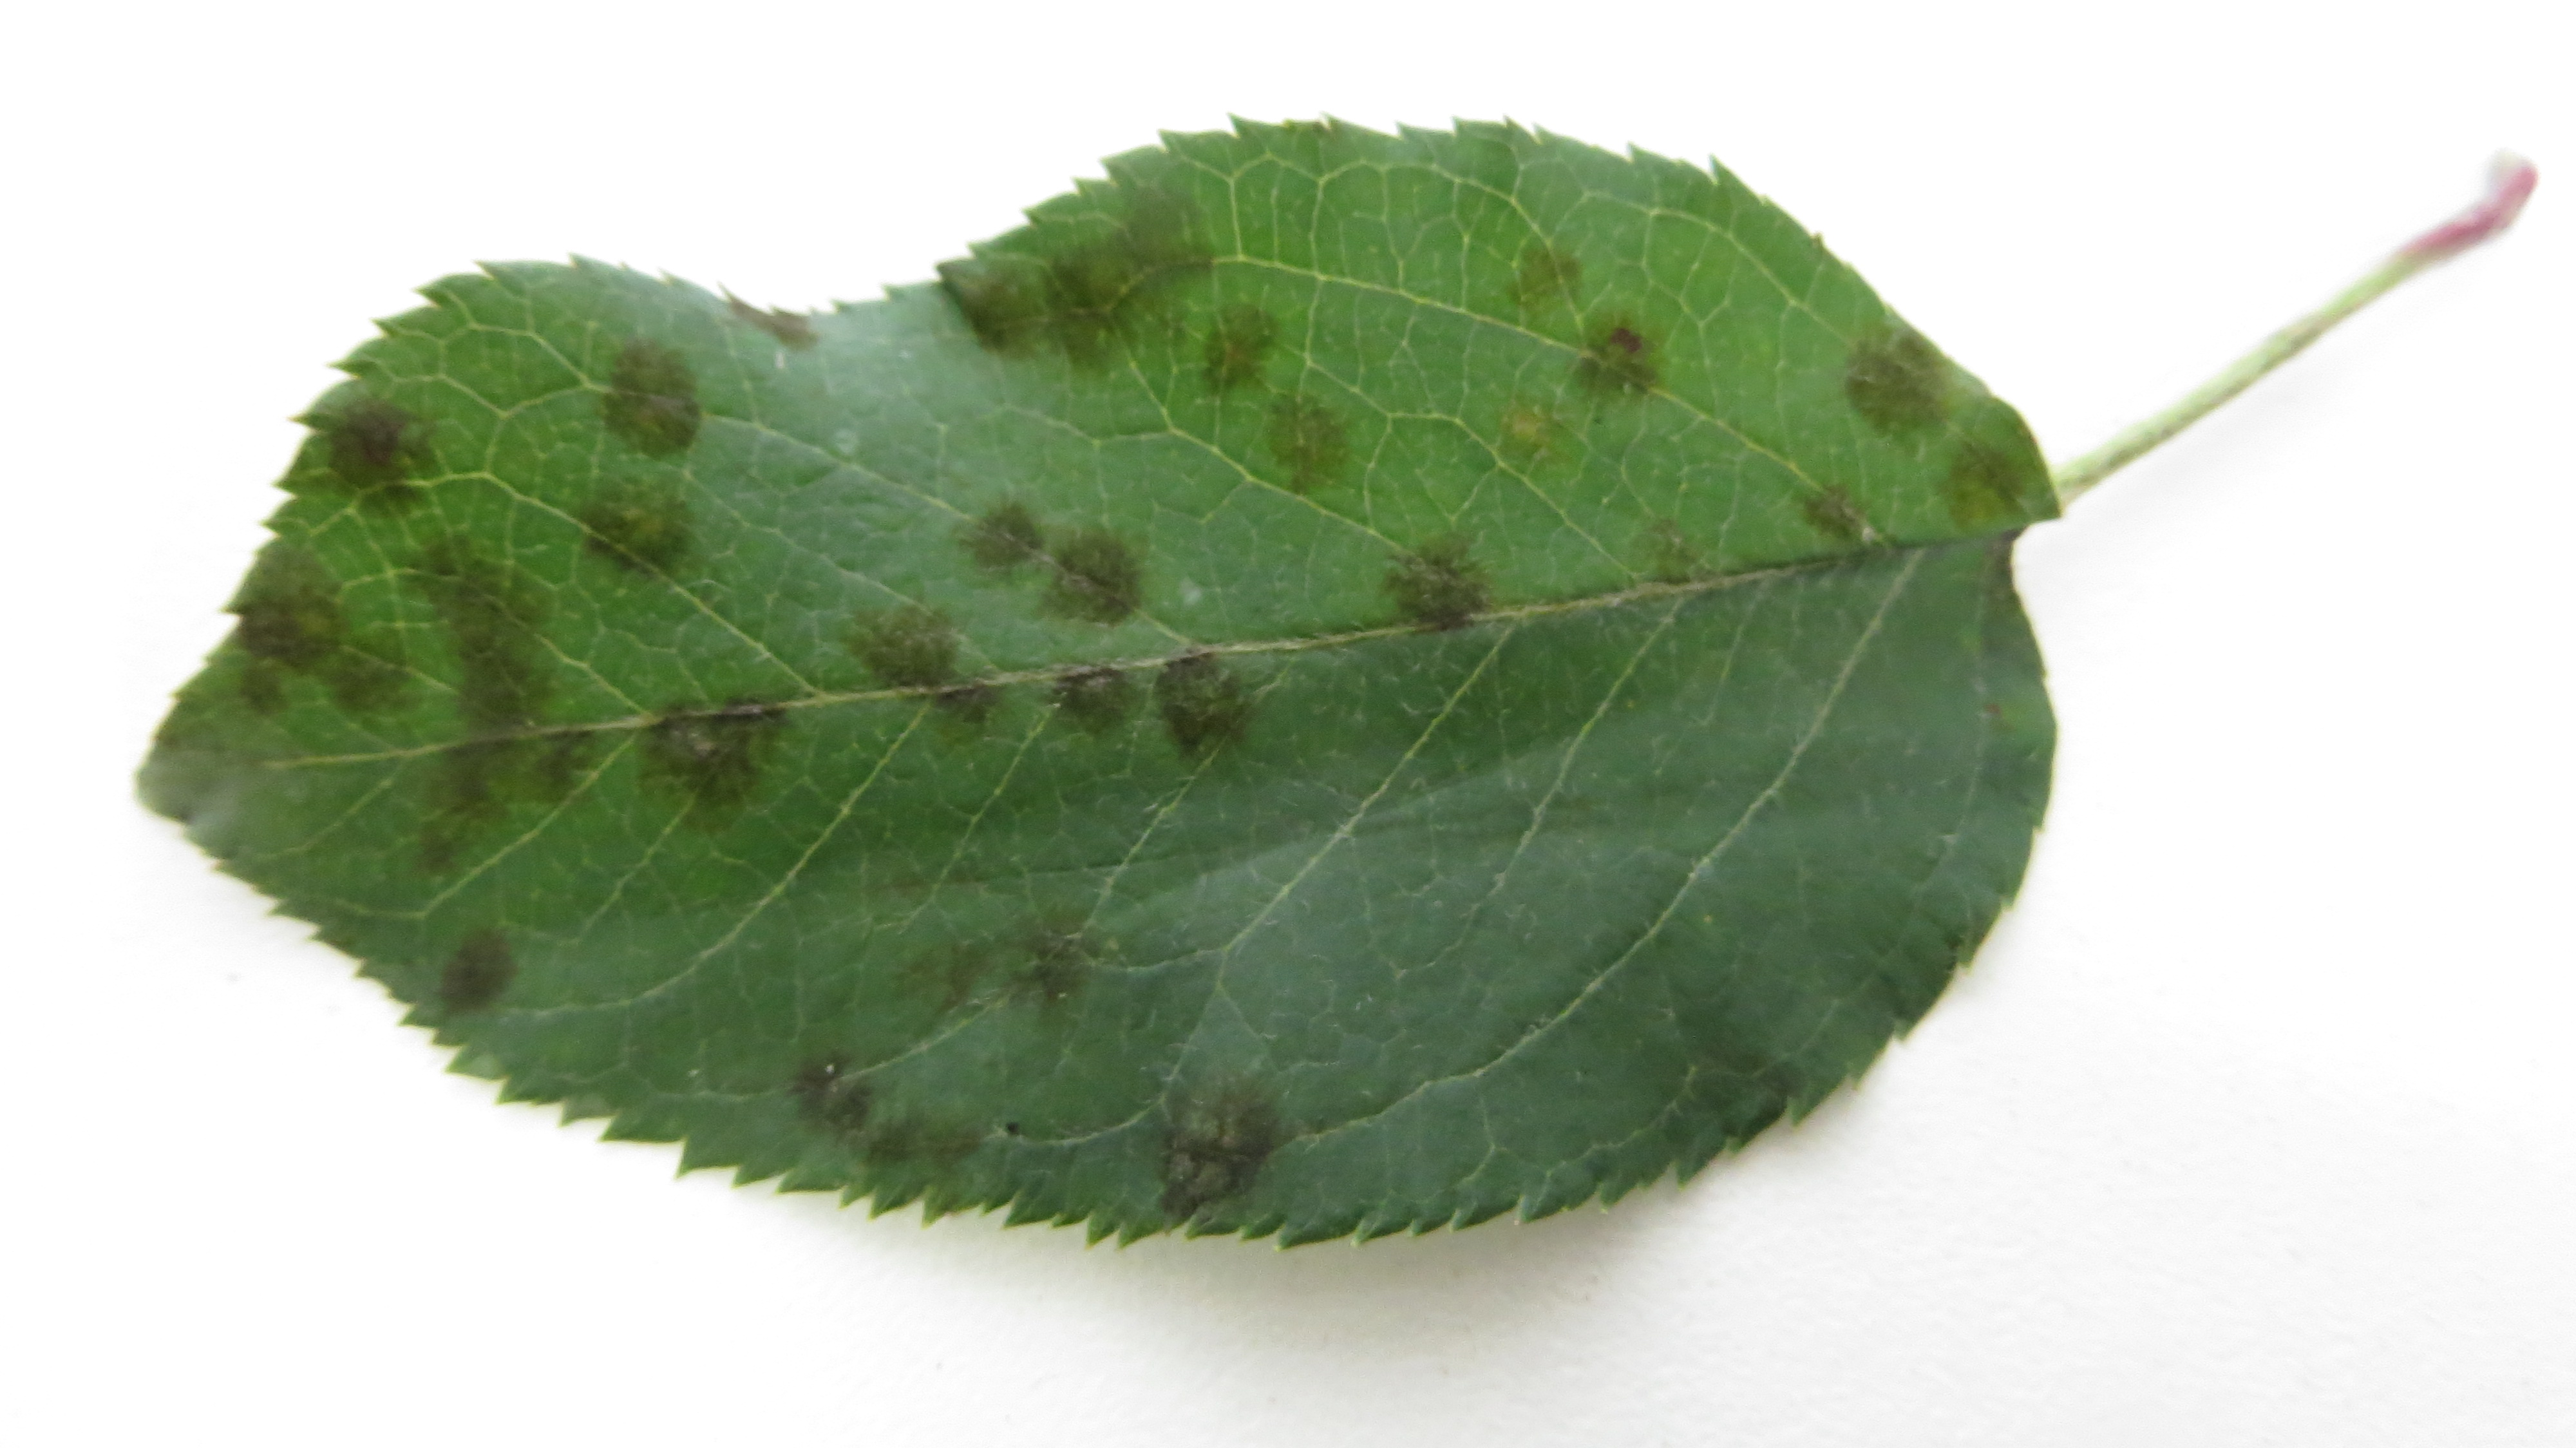sarna: (1146, 1071, 1295, 1228), (635, 690, 791, 823), (402, 529, 554, 659), (138, 708, 260, 853), (1053, 227, 1182, 361), (306, 384, 435, 512), (591, 333, 715, 462), (568, 476, 706, 589), (1959, 519, 2058, 674), (1366, 519, 1488, 641), (1014, 901, 1129, 1030), (1246, 382, 1364, 506), (1836, 326, 1959, 443), (230, 538, 347, 659), (950, 248, 1063, 368), (902, 928, 1019, 1043), (837, 589, 966, 690), (1150, 646, 1260, 765), (1568, 299, 1663, 420), (425, 920, 525, 1030), (1044, 529, 1148, 632), (1185, 294, 1283, 402), (1637, 508, 1732, 614), (1939, 435, 2047, 529), (954, 489, 1058, 584), (1120, 177, 1223, 273), (1047, 651, 1141, 743), (784, 1041, 874, 1131), (711, 290, 826, 361), (455, 651, 559, 728), (1497, 234, 1598, 312), (1484, 384, 1569, 473), (531, 708, 614, 797), (862, 1094, 943, 1184), (315, 627, 407, 703), (234, 651, 308, 740), (433, 722, 515, 802), (941, 1112, 1017, 1197), (405, 807, 481, 885), (925, 662, 1003, 733), (1796, 473, 1874, 538)
